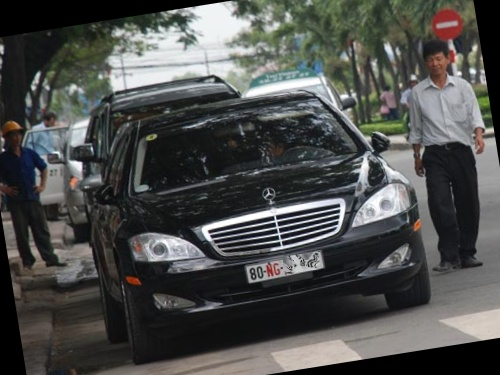plate: (236, 245, 333, 285)
